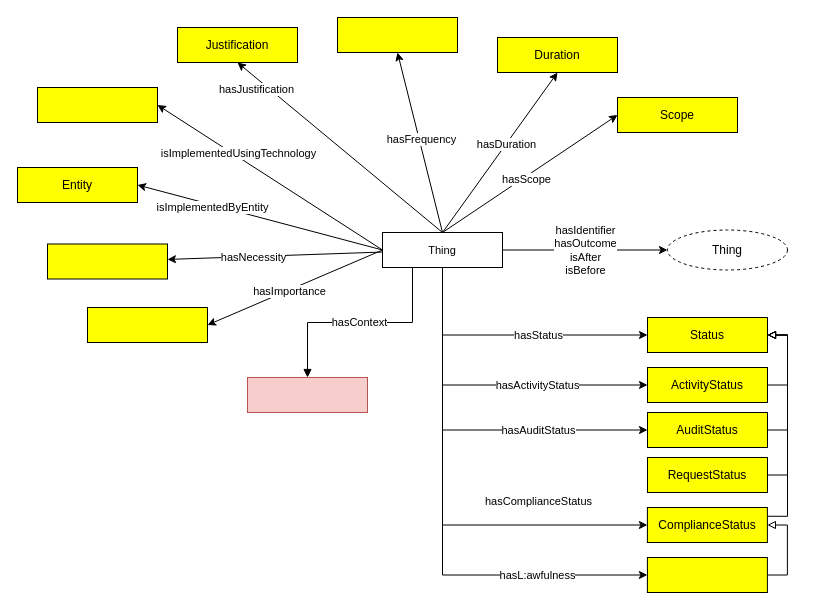
Image size: 813x610. Some labels were removed from this diagram. The shapes that lost their labels are listed below. From the top down, each one's box as (x1, y1, x2, y2) in pixels, then its label:
(336, 16, 458, 52): Frequency
(36, 86, 158, 122): Technology
(46, 243, 168, 279): Necessity
(86, 306, 208, 342): Importance
(246, 376, 368, 412): Context
(646, 556, 767, 592): Lawfulness
